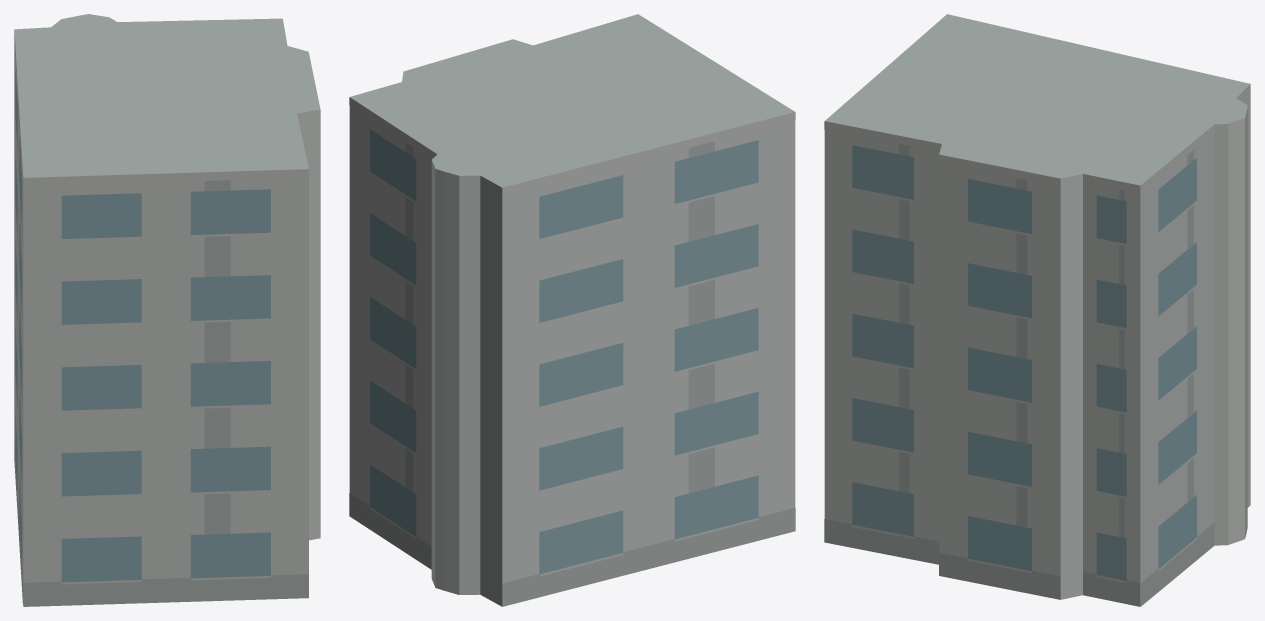
Rendered from survey-upis-32728735.glb.
3 renders of one model, left to right at view 1: azimuth 30°, elevation 25°; view 2: azimuth 150°, elevation 25°; view 3: azimuth 270°, elevation 25°, orthographic. The views are drawn at different scales.
Visible parts, largest first — view 1: survey-upis-32728735.tmp; view 2: survey-upis-32728735.tmp; view 3: survey-upis-32728735.tmp.
Part boxes in pixels (x1,y1,x2,y2): survey-upis-32728735.tmp: (14,14,320,606); survey-upis-32728735.tmp: (349,14,795,606); survey-upis-32728735.tmp: (824,14,1250,606).
Bounding box in the file's own units: 10.58 × 12.1 × 11.1.
